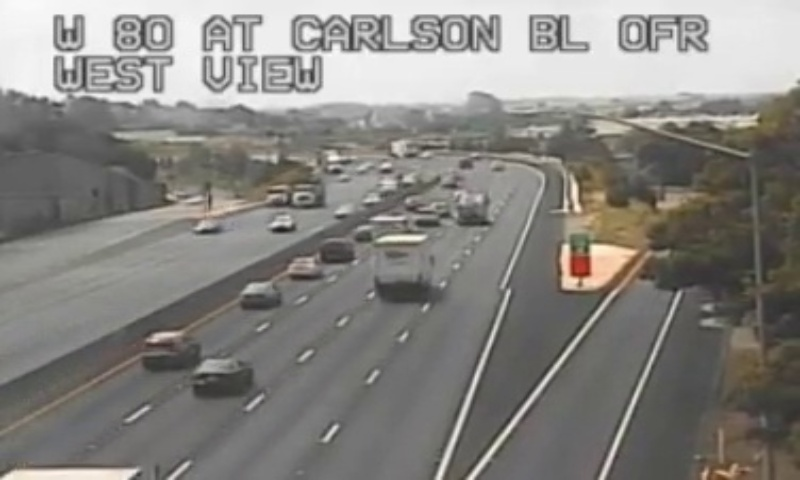car: (193, 359, 253, 393), (142, 332, 197, 366), (239, 282, 281, 307), (319, 238, 351, 263), (287, 256, 321, 276)
small-truck: (374, 234, 429, 292)
